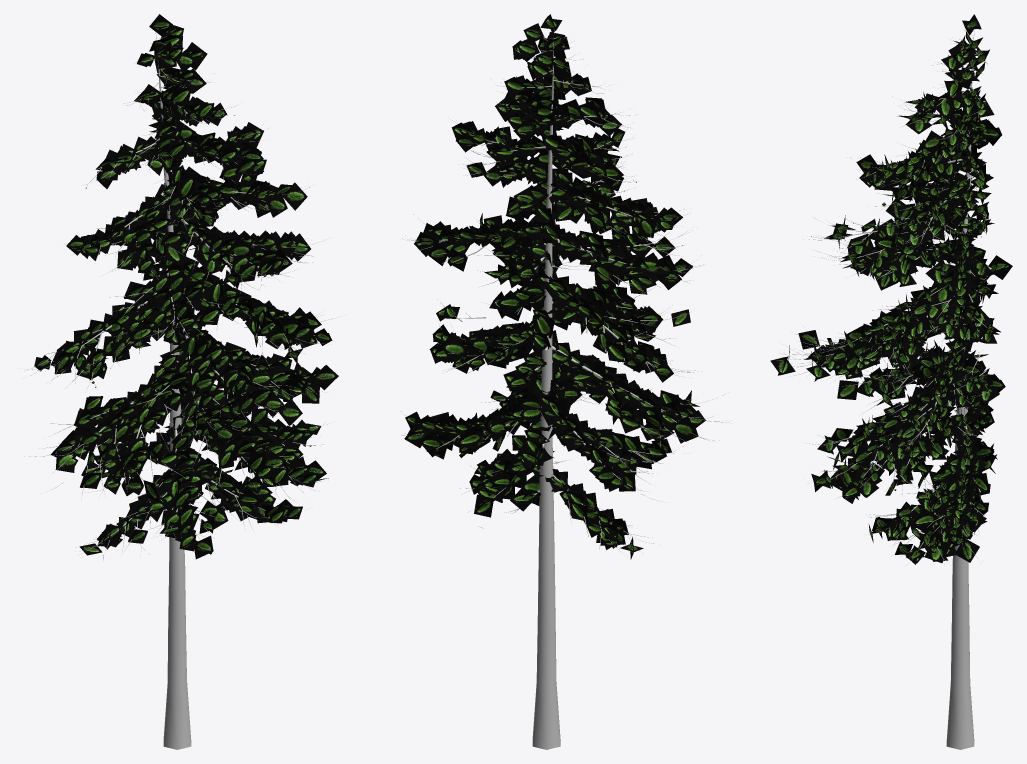
The model's file is Pinus.fbx.
3 views of the same model, side by side, from view 1: azimuth 30°, elevation 25°; view 2: azimuth 150°, elevation 25°; view 3: azimuth 270°, elevation 25° (orthographic).
Parts seen in each view (by area): view 1: Hojas, Pino; view 2: Hojas, Pino; view 3: Hojas, Pino.
Part boxes in pixels (x1,y1,x2,y2): Hojas: (34,14,338,559); Pino: (22,33,336,749); Hojas: (404,14,705,559); Pino: (401,24,730,749); Hojas: (770,14,1012,564); Pino: (777,29,991,749).
Bounding box in the file's own units: 21.54 × 46.76 × 14.34.
